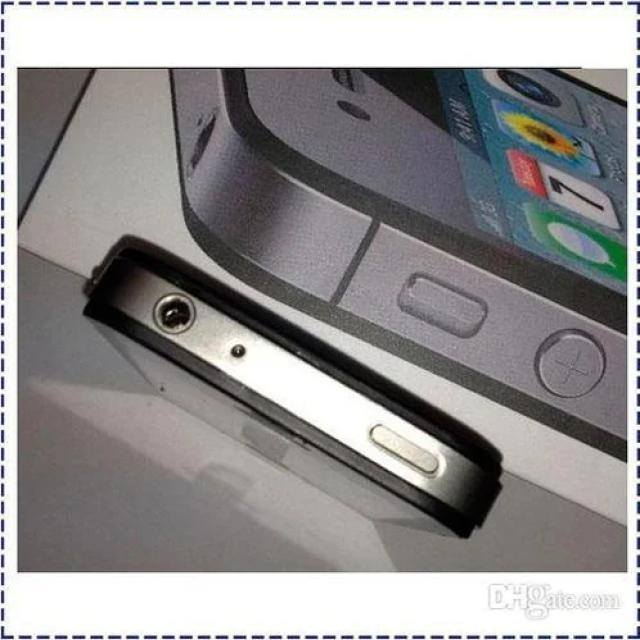hidden camera: (228, 338, 252, 364)
